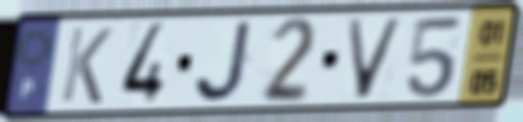2: (259, 14, 320, 107)
4: (116, 19, 170, 110)
5: (402, 12, 465, 101)
J: (191, 18, 258, 107)
K: (57, 24, 116, 107)
V: (343, 15, 408, 102)
